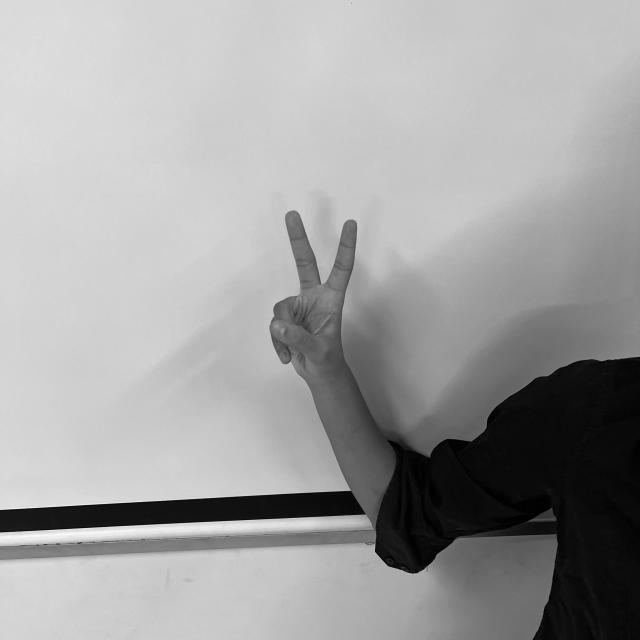Letra V: (265, 208, 361, 377)
